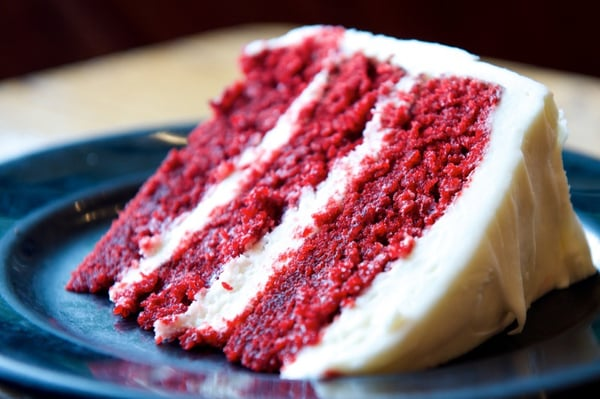sushi: (71, 24, 549, 380)
